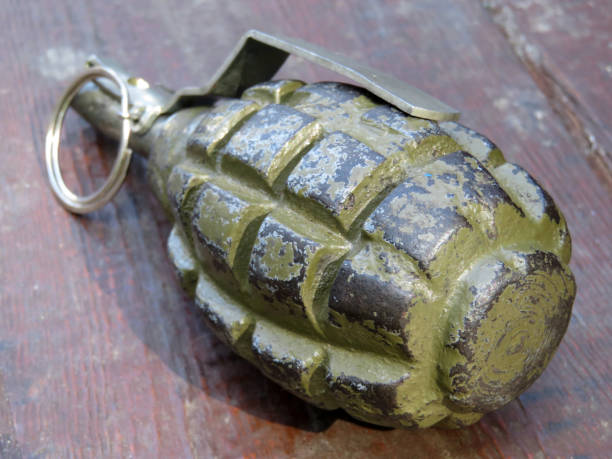e1: (41, 29, 574, 431)
